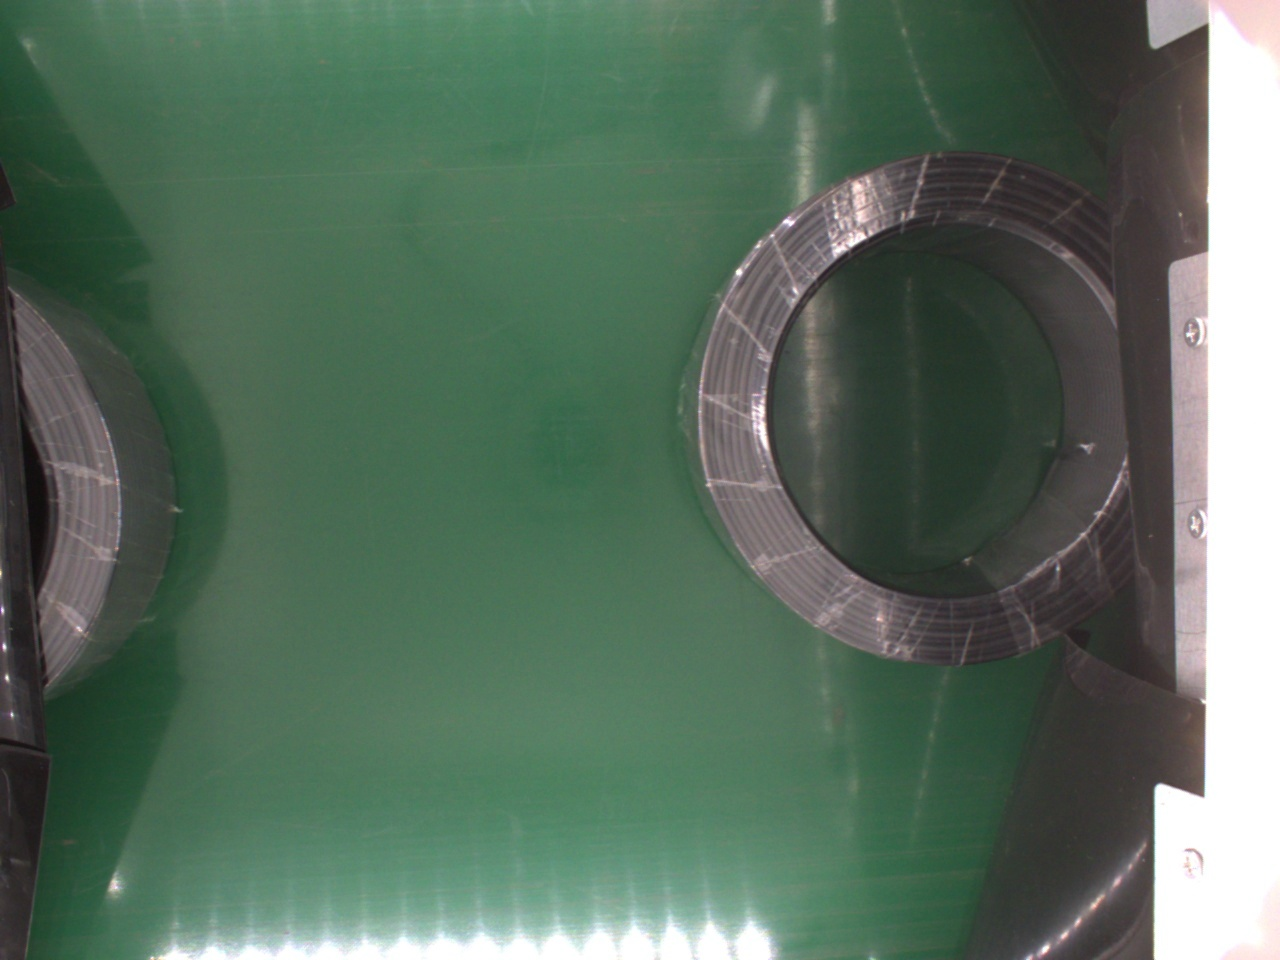black: (679, 154, 1138, 666), (0, 277, 171, 696)
